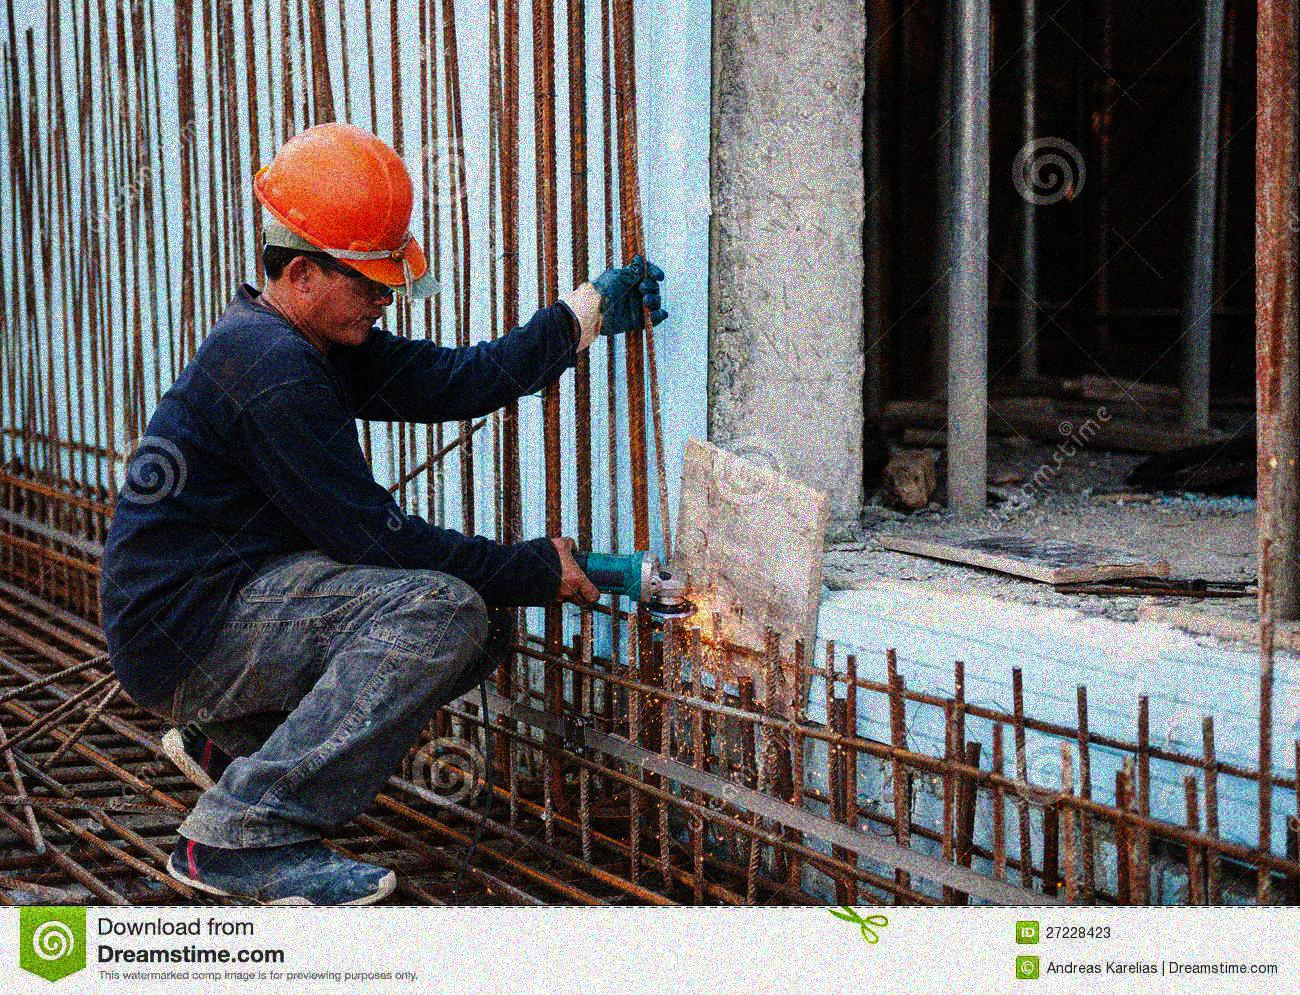helmet: (245, 118, 426, 347)
